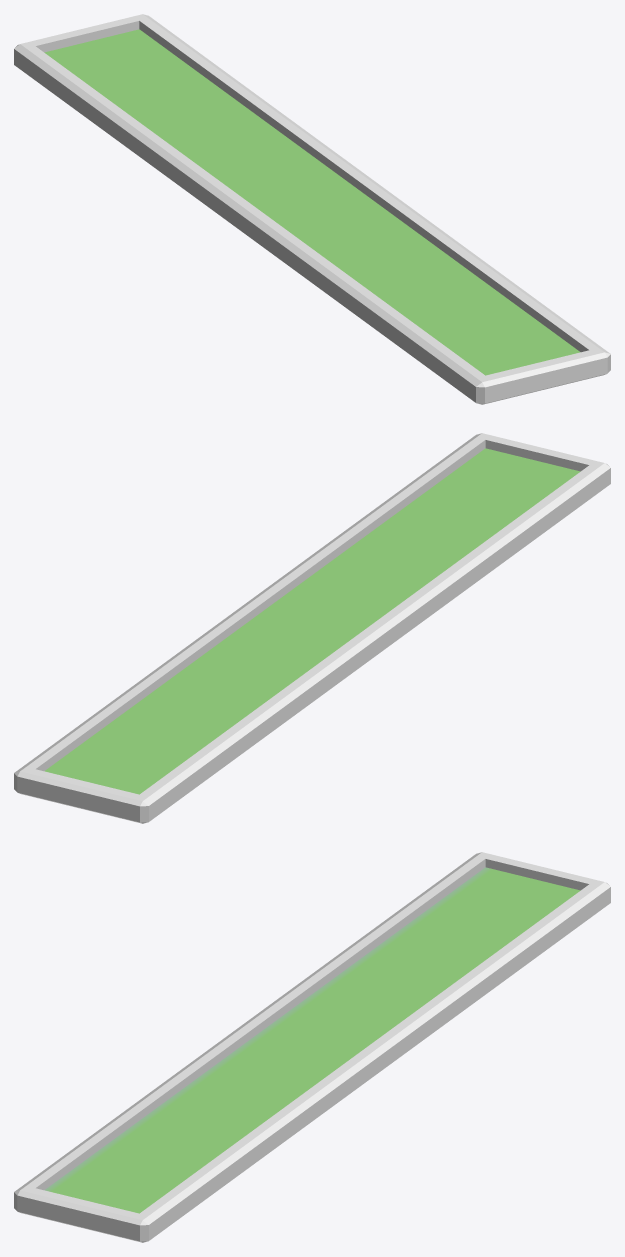
Rendered from floor_2_1.dae.
3 renders of one model, top to bottom at view 1: azimuth 30°, elevation 25°; view 2: azimuth 150°, elevation 25°; view 3: azimuth 330°, elevation 25°, orthographic.
Parts seen in each view (by area): view 1: floor_3; view 2: floor_3; view 3: floor_3.
Boxes of the visible parts, <box> form: floor_3: <box>14,14,610,404</box>; floor_3: <box>14,433,610,823</box>; floor_3: <box>14,852,610,1242</box>.
Bounding box in the file's own units: 5 × 30 × 0.8.
1 material, 1 textured.
